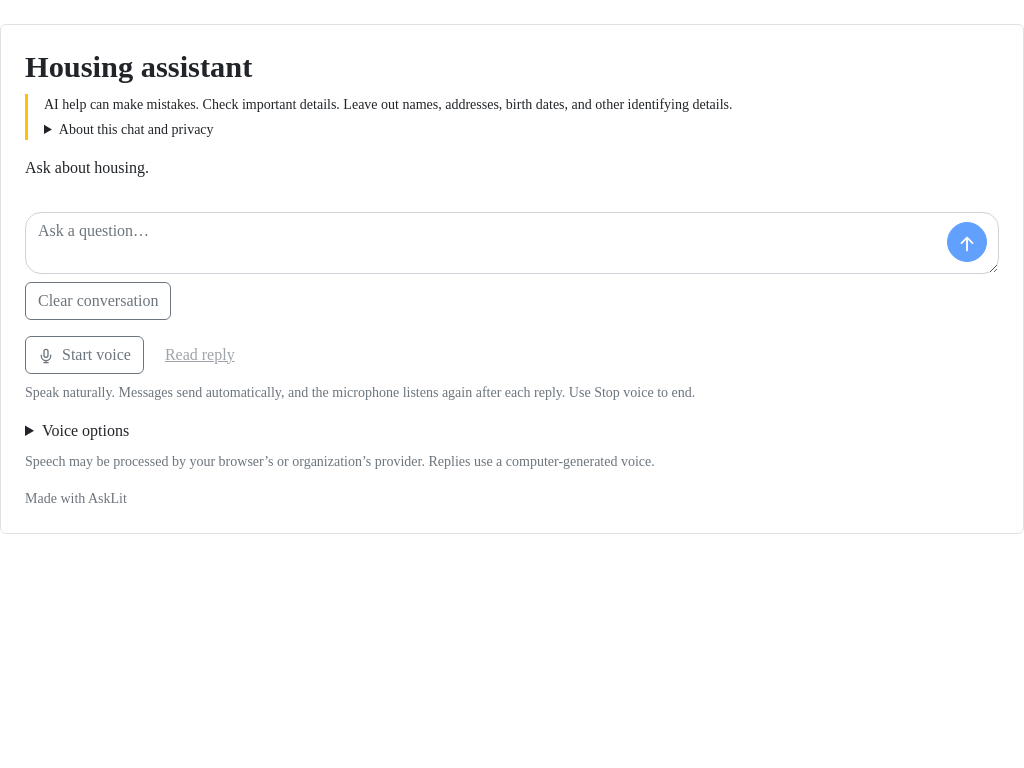
Test: uses the public POST API with an in-memory capability and escapes answers
The image size is (1024, 768).
Check: the heading "Housing assistant" is shown, box [25,50,252,84]
Type "Help with housing" into the text box named "Your question". click: point(512, 242)
box: [25,212,999,274]
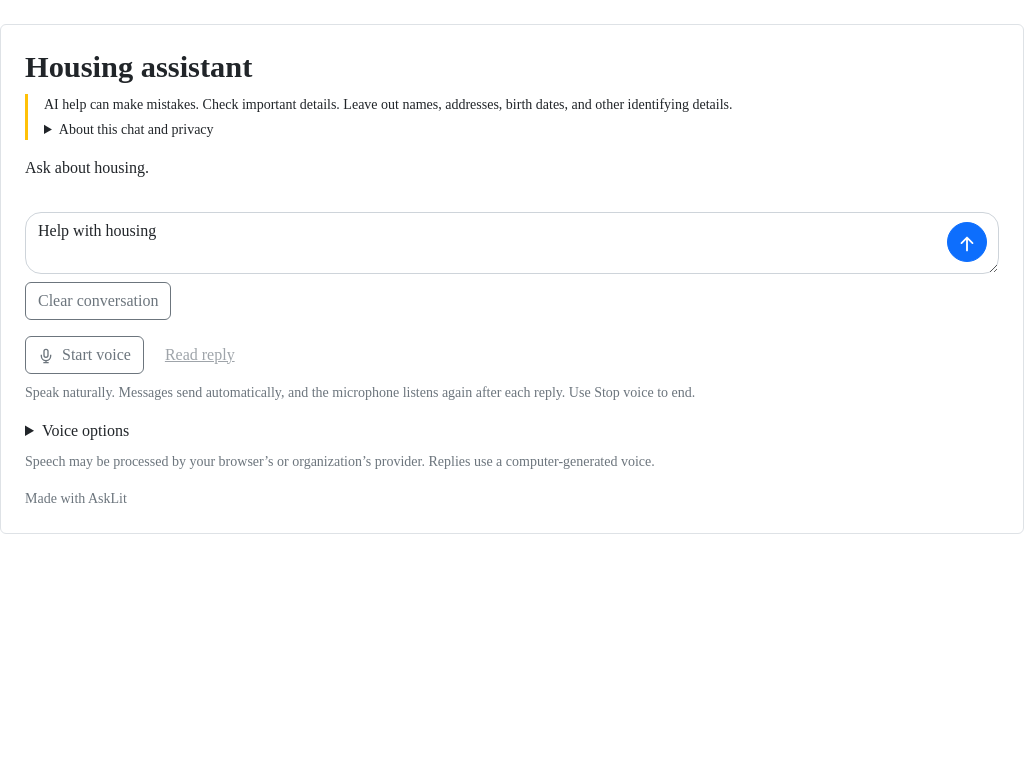
Click the button named "Send". click: point(967, 242)
box: [947,222,987,262]
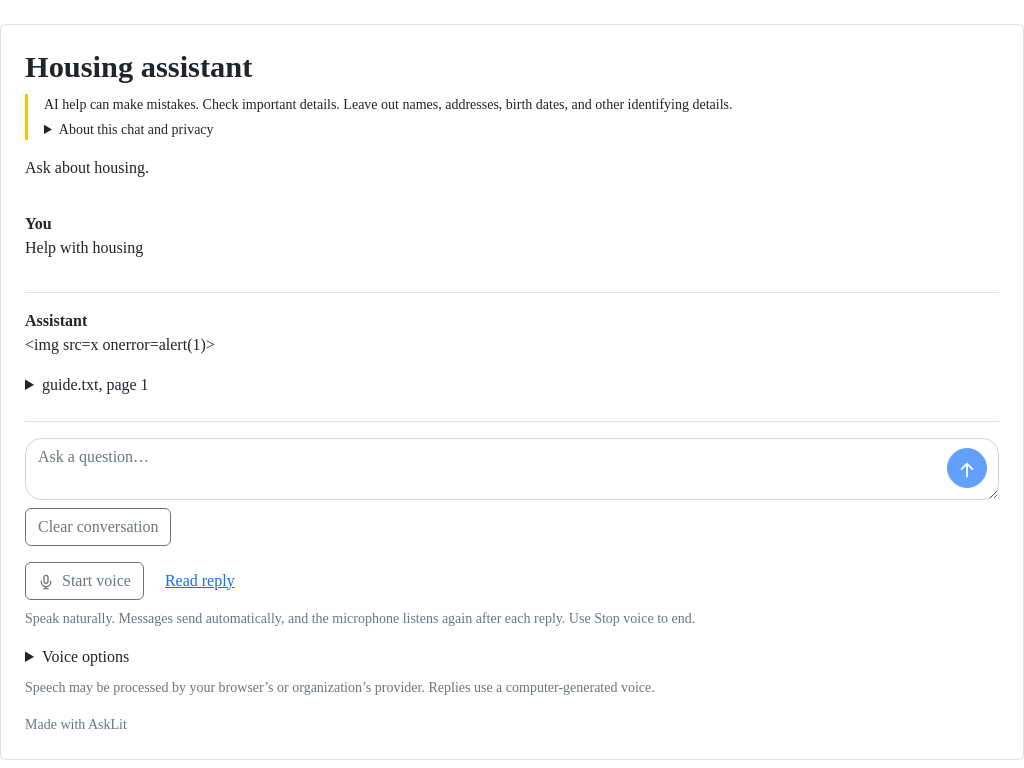
Check: the text "<img src=x onerror=alert(1)>" is shown, box [25,336,215,352]
Click the button "Clear conversation". click: point(98, 526)
box: [25,508,171,546]
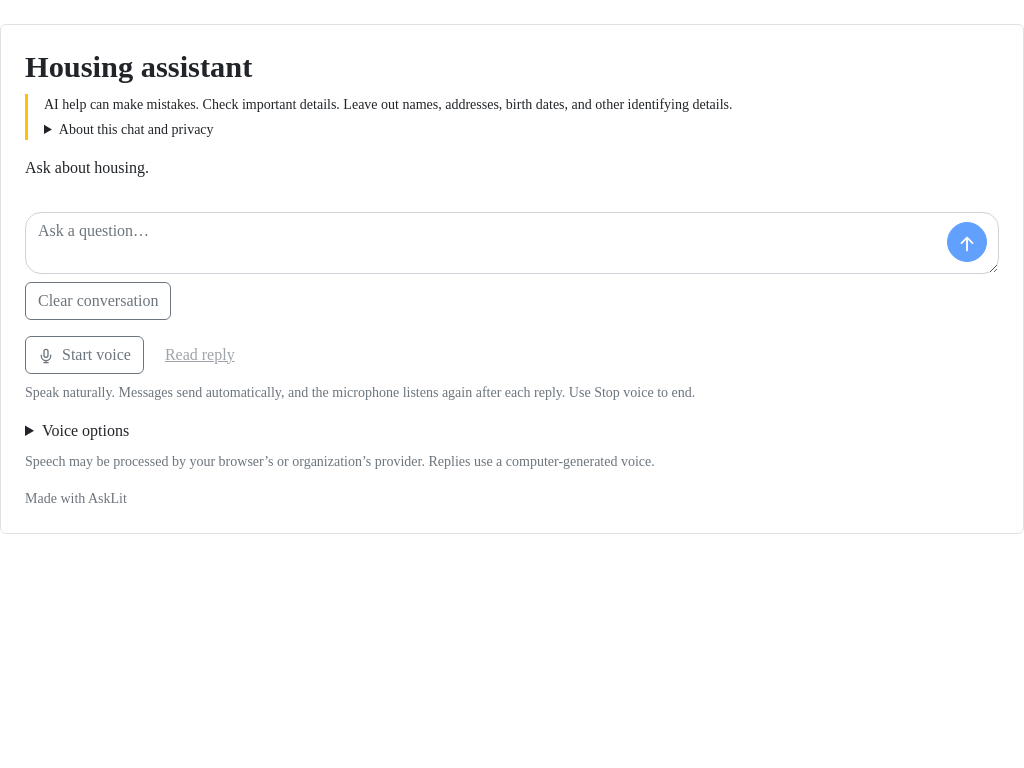
Check: the text "<img src=x onerror=alert(1)>" is gone
